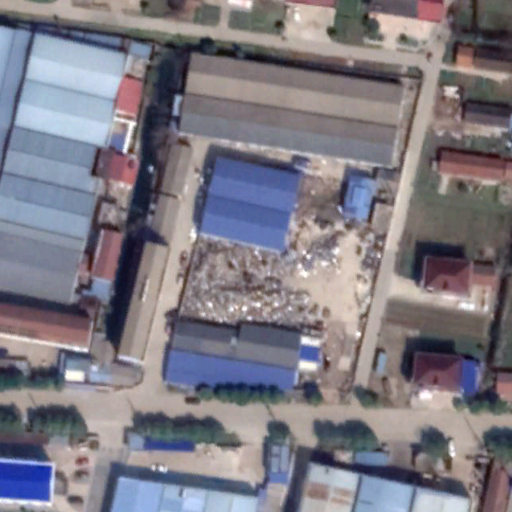msw: (180, 230, 355, 329)
